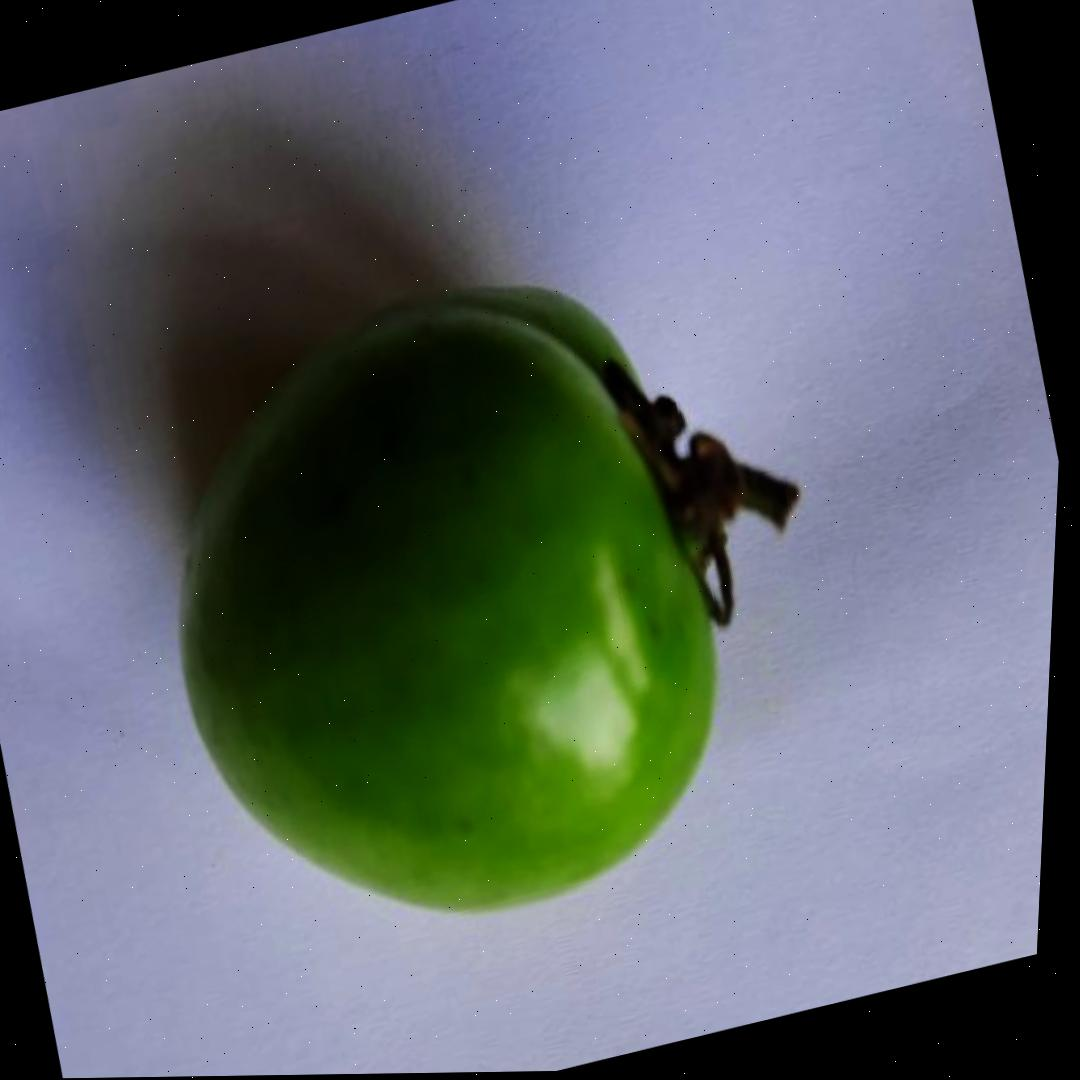mentah: (96, 215, 890, 981)
